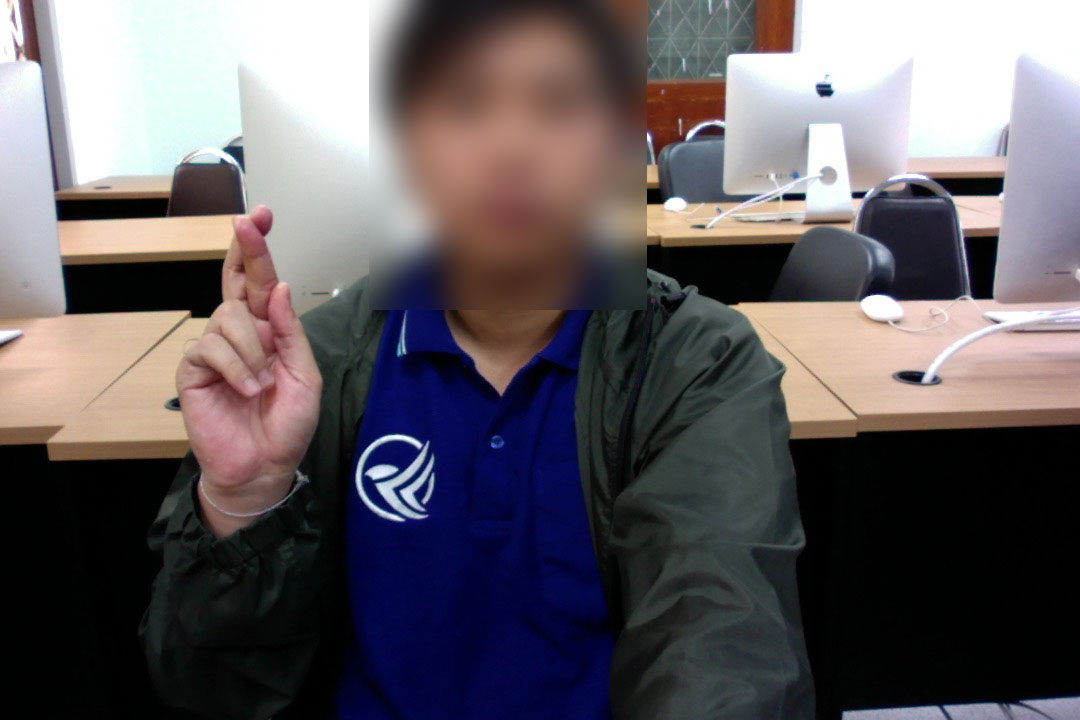rao: (161, 199, 337, 503)
